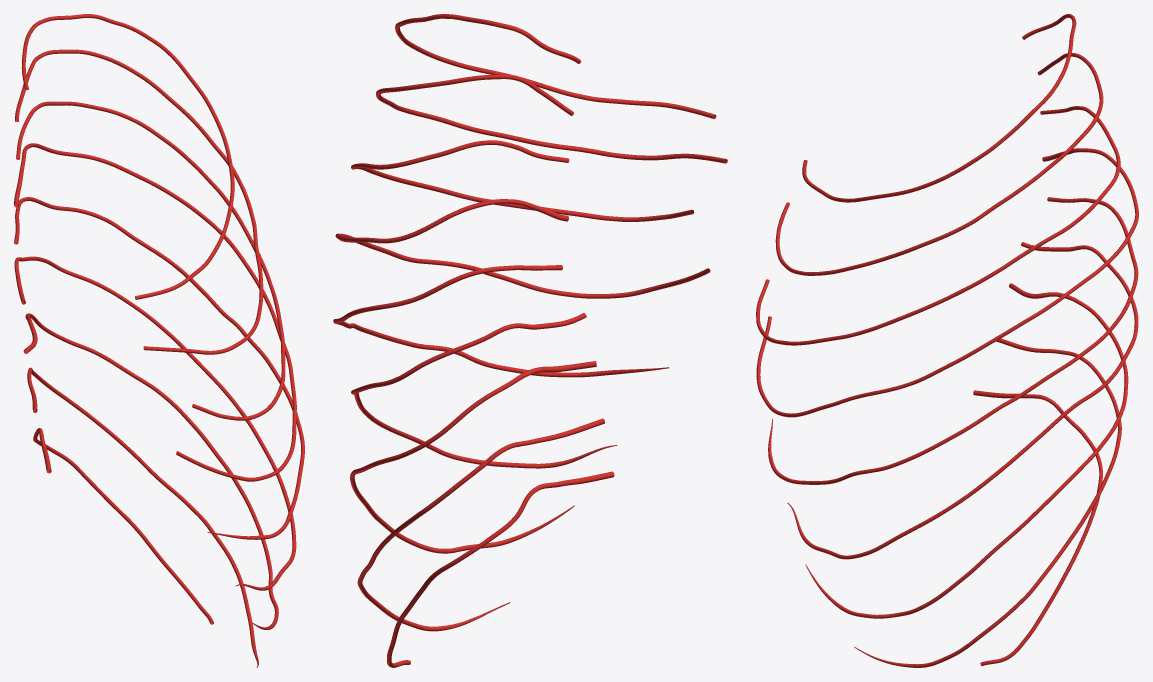
The model's file is circulatorio-posterior-intercostal-arteries-l.glb.
3 views of the same model, side by side, from view 1: azimuth 30°, elevation 25°; view 2: azimuth 150°, elevation 25°; view 3: azimuth 270°, elevation 25° (orthographic). The views are drawn at different scales.
Visible parts, largest first — view 1: Posterior intercostal arteries.l; view 2: Posterior intercostal arteries.l; view 3: Posterior intercostal arteries.l.
Boxes of the visible parts, x1,y1,x2,y2 form: Posterior intercostal arteries.l: [14, 14, 304, 667]; Posterior intercostal arteries.l: [333, 14, 727, 667]; Posterior intercostal arteries.l: [756, 14, 1138, 667].
Size of the model in its own units: 0.1285 by 0.3336 by 0.1963.
